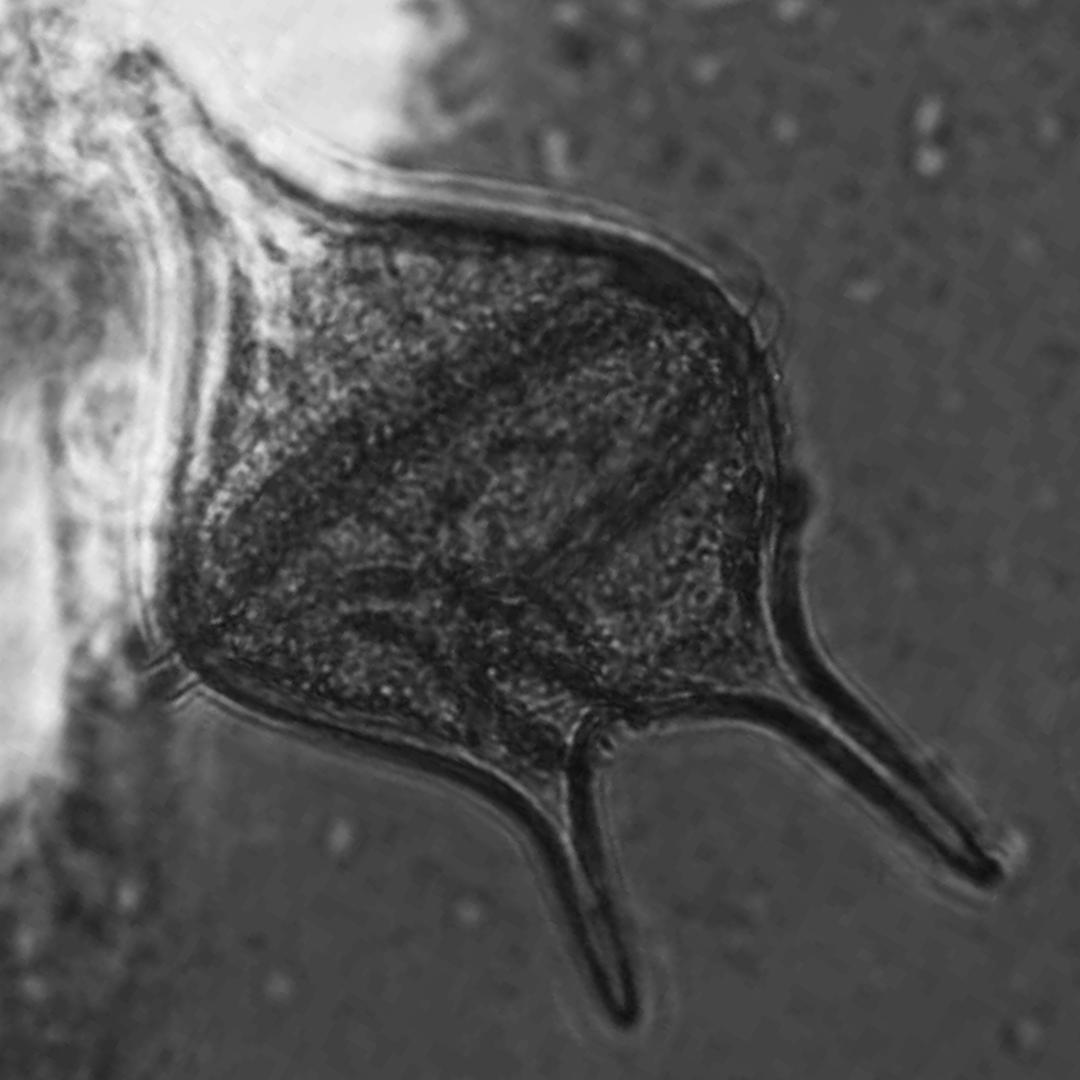protoperidinium_oceanicum: (113, 41, 979, 1013)
